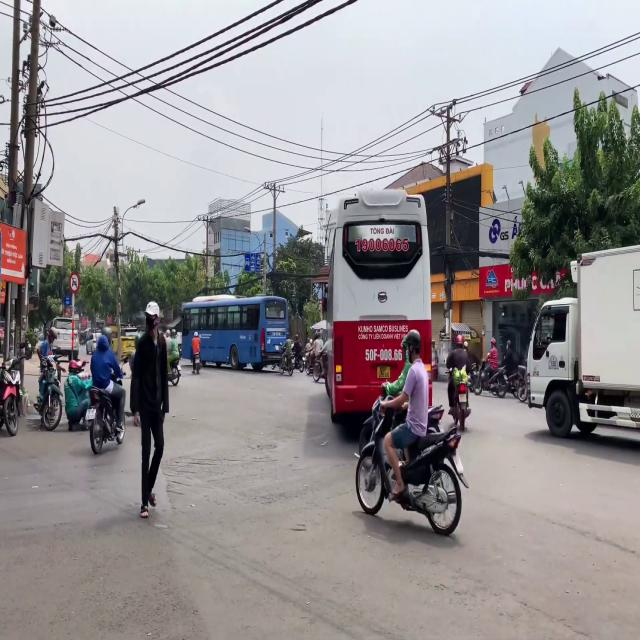bien_vang: (377, 365, 392, 379)
